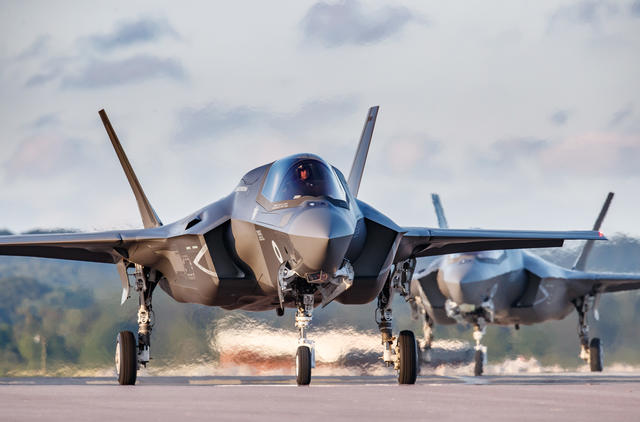F-35 Lightning: (32, 38, 611, 414)
